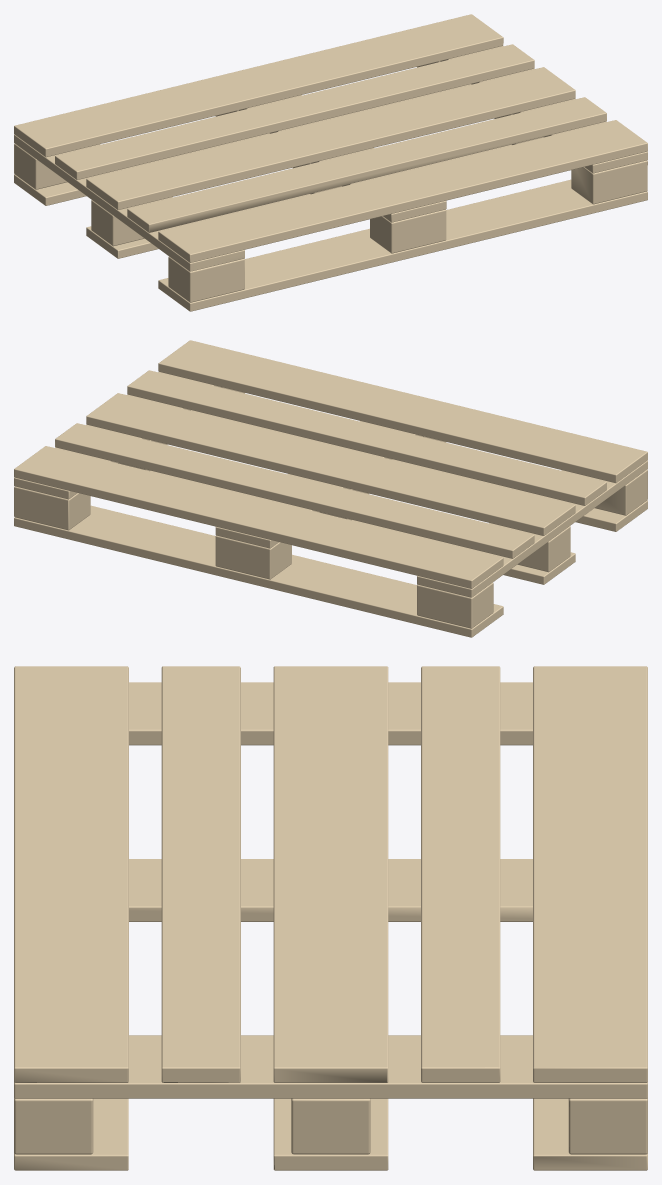
Rendered from pale.glb.
3 views of the same model, one above another, from view 1: azimuth 30°, elevation 25°; view 2: azimuth 150°, elevation 25°; view 3: azimuth 270°, elevation 25° (orthographic). The views are drawn at different scales.
Visible parts, largest first — view 1: cubierta_0; view 2: cubierta_0; view 3: cubierta_0.
Boxes of the visible parts, <box> form: cubierta_0: <box>14,14,647,311</box>; cubierta_0: <box>14,340,647,637</box>; cubierta_0: <box>14,666,647,1170</box>.
Bounding box in the file's own units: 1.2 × 0.144 × 0.8.
